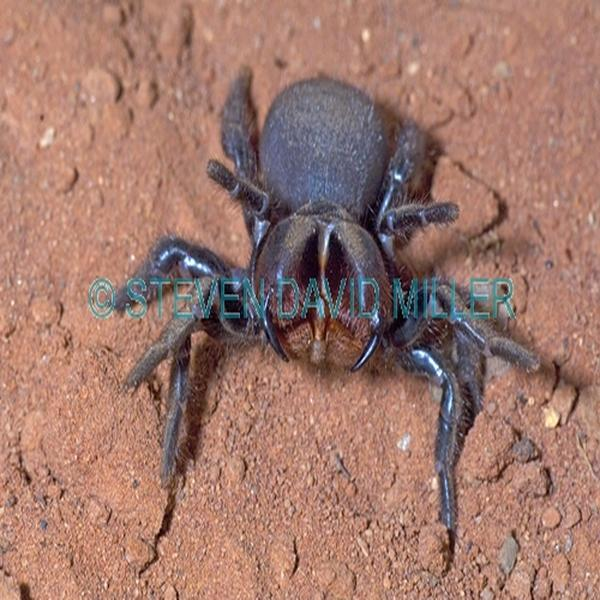Red Headed Mouse Spider: (136, 76, 533, 521)
